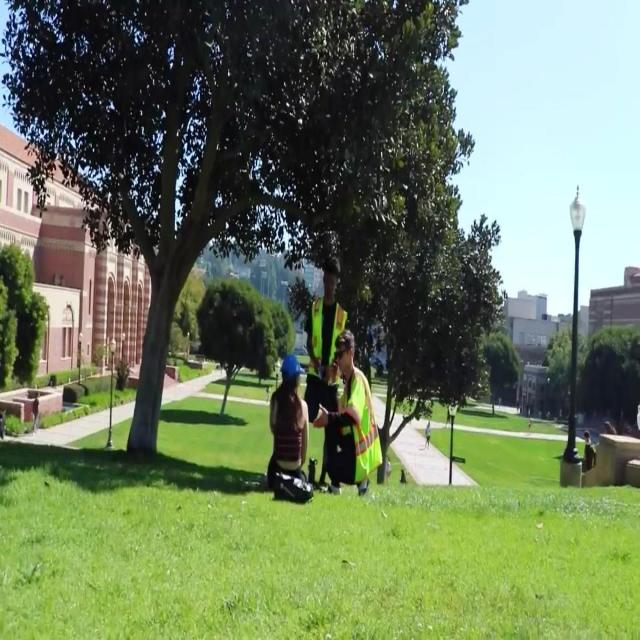Reflective-Jacket: (326, 367, 380, 480)
Safety-Helmet: (279, 351, 305, 382)
